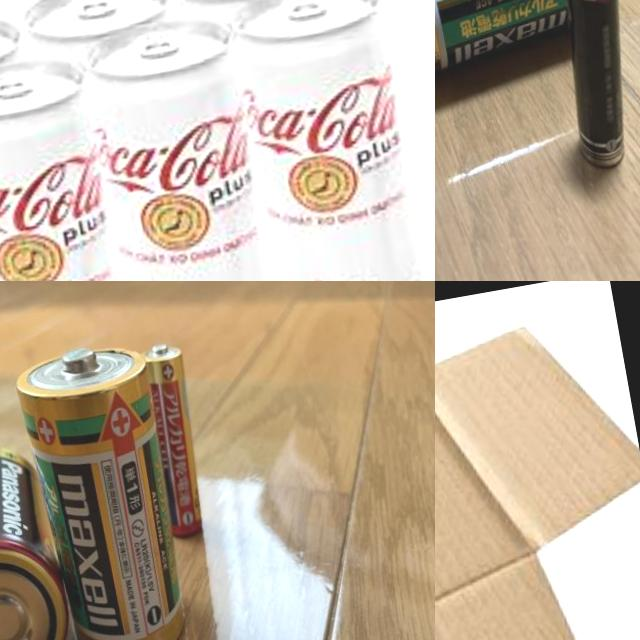aba de lata: (136, 28, 180, 58), (0, 69, 35, 102), (74, 0, 118, 23), (283, 0, 325, 20)
bateria: (10, 335, 201, 640), (537, 0, 640, 176), (435, 0, 628, 89), (0, 441, 85, 640), (133, 337, 215, 542)
lata: (66, 11, 300, 281), (216, 0, 435, 281), (0, 46, 153, 281), (0, 6, 85, 281), (21, 0, 172, 51), (165, 0, 325, 43)
papelão: (435, 281, 640, 640)
